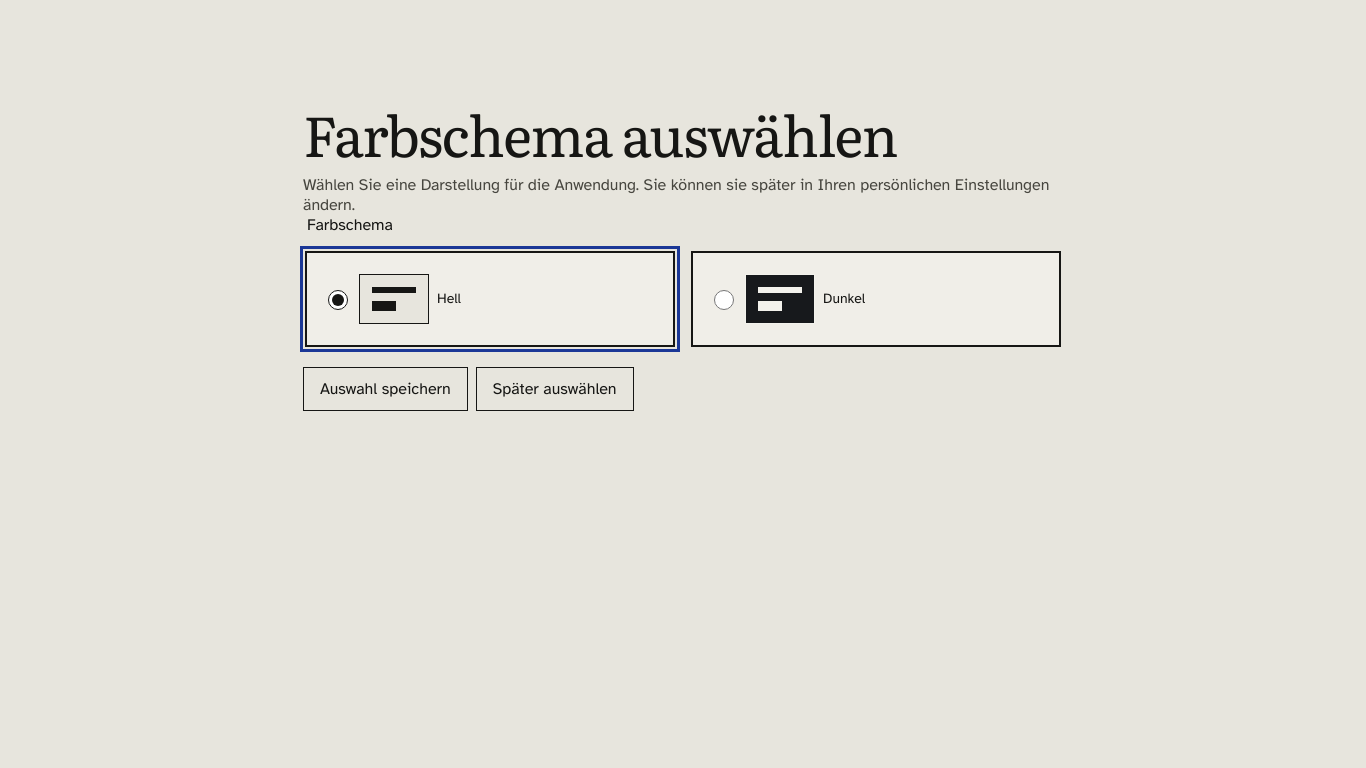
appearance onboarding routes › shows first choice before home and applies the saved dark theme
The width and height of the screenshot is (1366, 768).
Expected: the heading "Farbschema auswählen" is shown, [303, 91, 897, 174]
Expected: the heading "Raumlotse" is not shown
Click the radio button labelled "Dunkel". click: (724,300)
box: [714, 290, 734, 310]
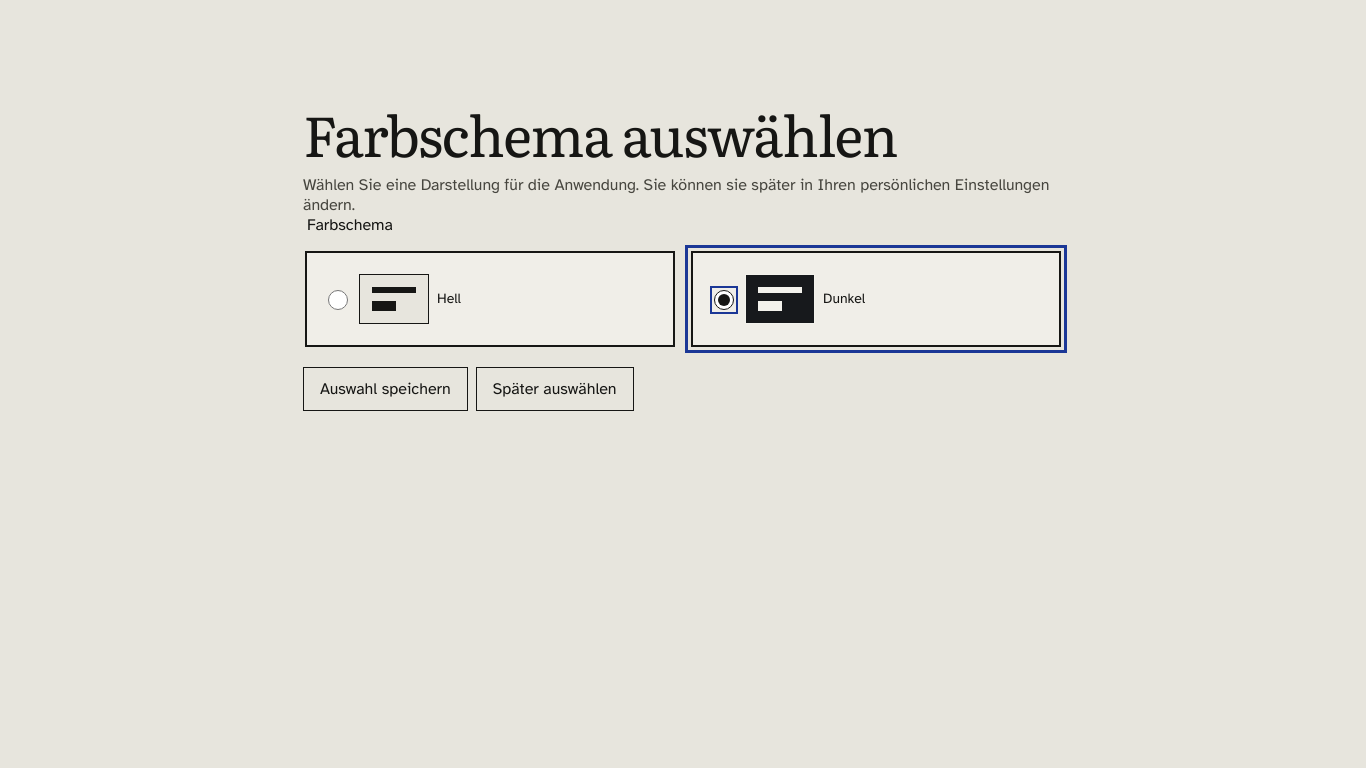
Click the button "Auswahl speichern". click: (385,389)
box: [303, 367, 468, 411]
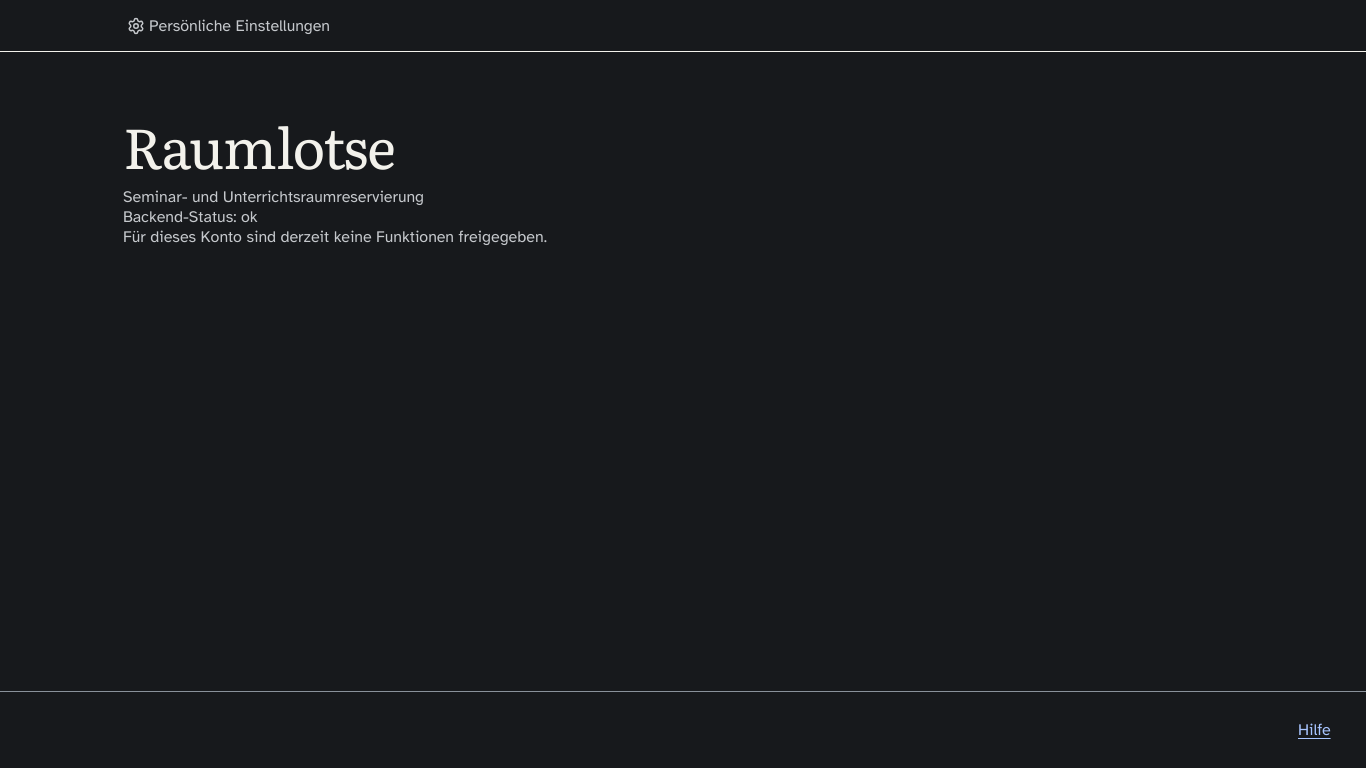
Now the heading "Raumlotse" is shown, box [123, 103, 395, 186]
